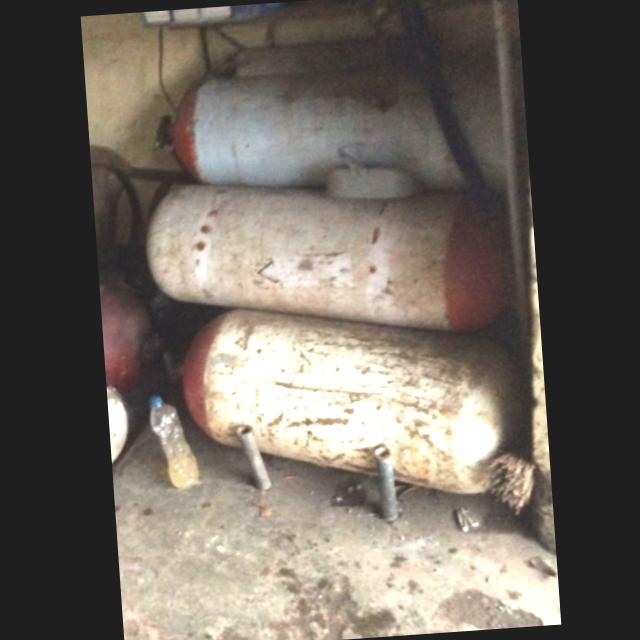Cylinders: (179, 308, 508, 493), (147, 187, 506, 323), (171, 63, 464, 184)
